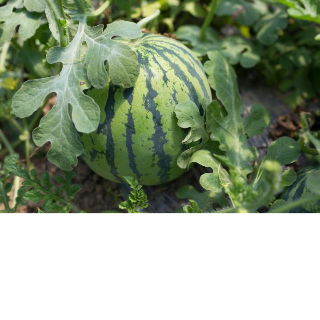dua_hau: (64, 27, 208, 186)
